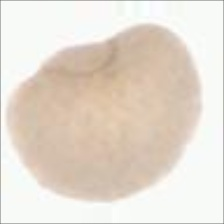L5: (40, 34, 124, 78)
L6: (4, 21, 203, 204)
